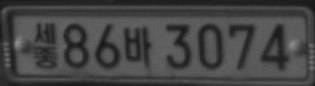0: (197, 23, 223, 68)
3: (165, 23, 191, 69)
4: (260, 22, 290, 70)
6: (94, 23, 120, 69)
7: (228, 23, 255, 70)
8: (62, 22, 89, 68)
바: (124, 26, 152, 67)
세종_V: (33, 21, 59, 69)
